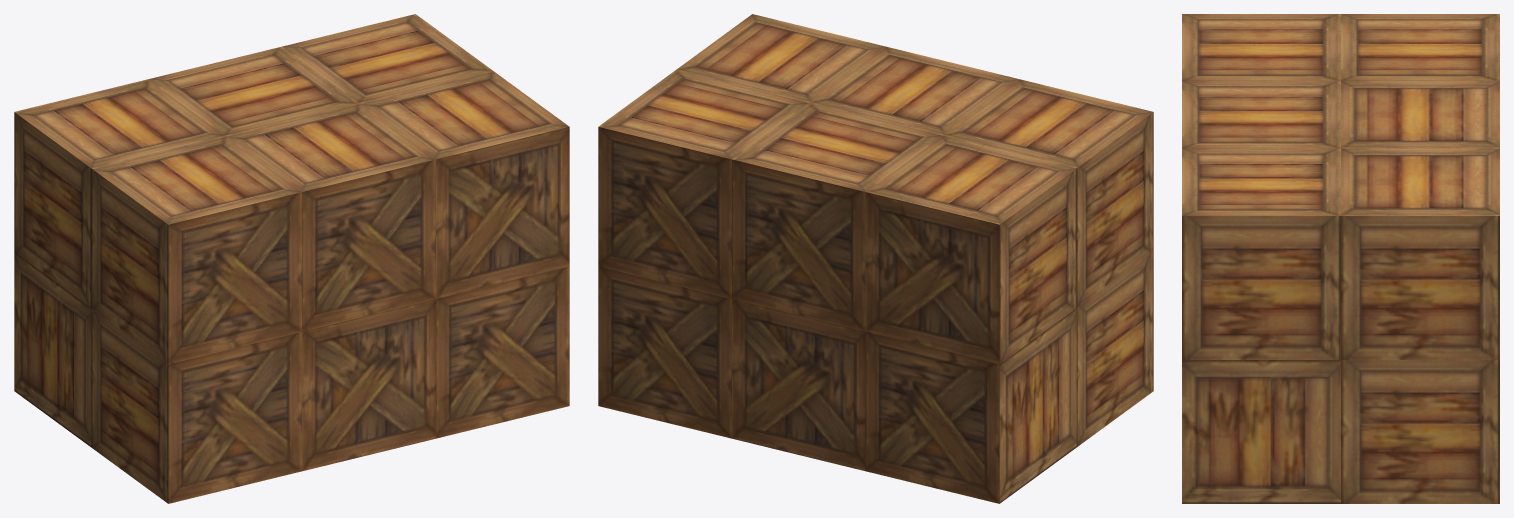
File: a_SWGubox01_s2.glb
3 views of the same model, side by side, from view 1: azimuth 30°, elevation 25°; view 2: azimuth 150°, elevation 25°; view 3: azimuth 270°, elevation 25° (orthographic). The views are drawn at different scales.
Parts seen in each view (by area): view 1: a_SWGubox01_s2; view 2: a_SWGubox01_s2; view 3: a_SWGubox01_s2.
Part boxes in pixels (box(x1,y1,x2,y2)): a_SWGubox01_s2: box(14, 14, 569, 503); a_SWGubox01_s2: box(598, 14, 1153, 503); a_SWGubox01_s2: box(1182, 14, 1499, 503).
Size of the model in its own units: 3 by 2 by 2.
Materials: 1 (1 with a texture image).
